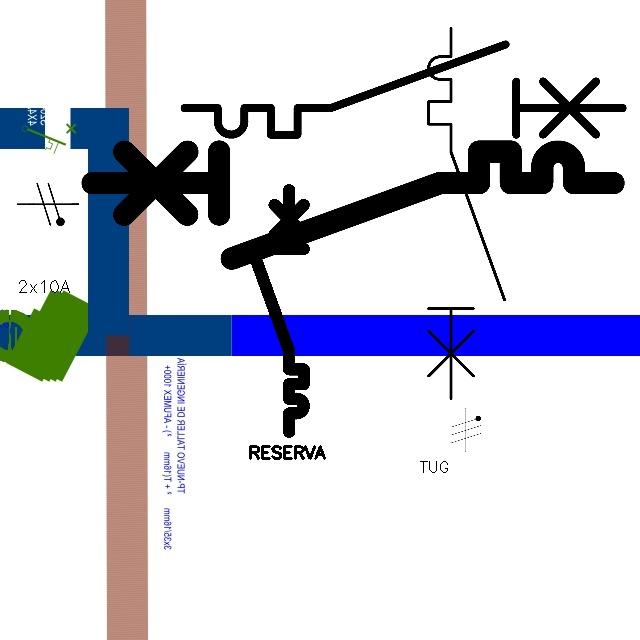interruptor_termomagnetico: (79, 138, 627, 272), (173, 33, 634, 146), (419, 19, 514, 408), (248, 184, 310, 438)
